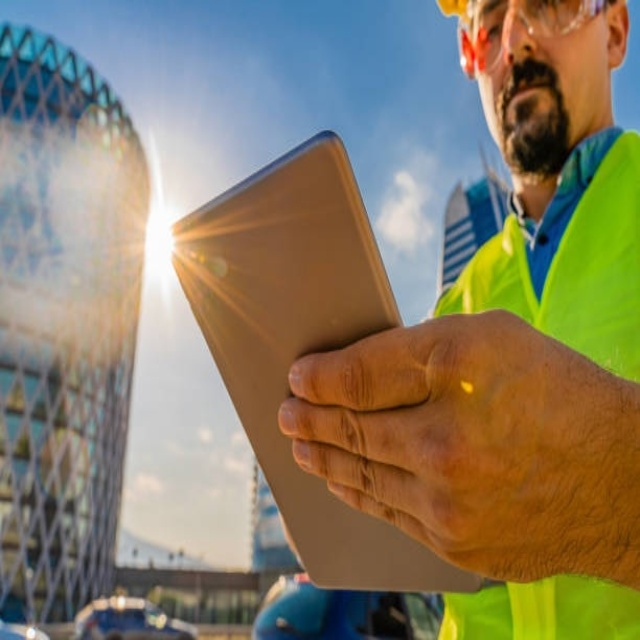Gafas: (455, 0, 614, 73)
Sin_guantes: (286, 311, 639, 591)
Sin_mascara: (492, 61, 563, 143)
